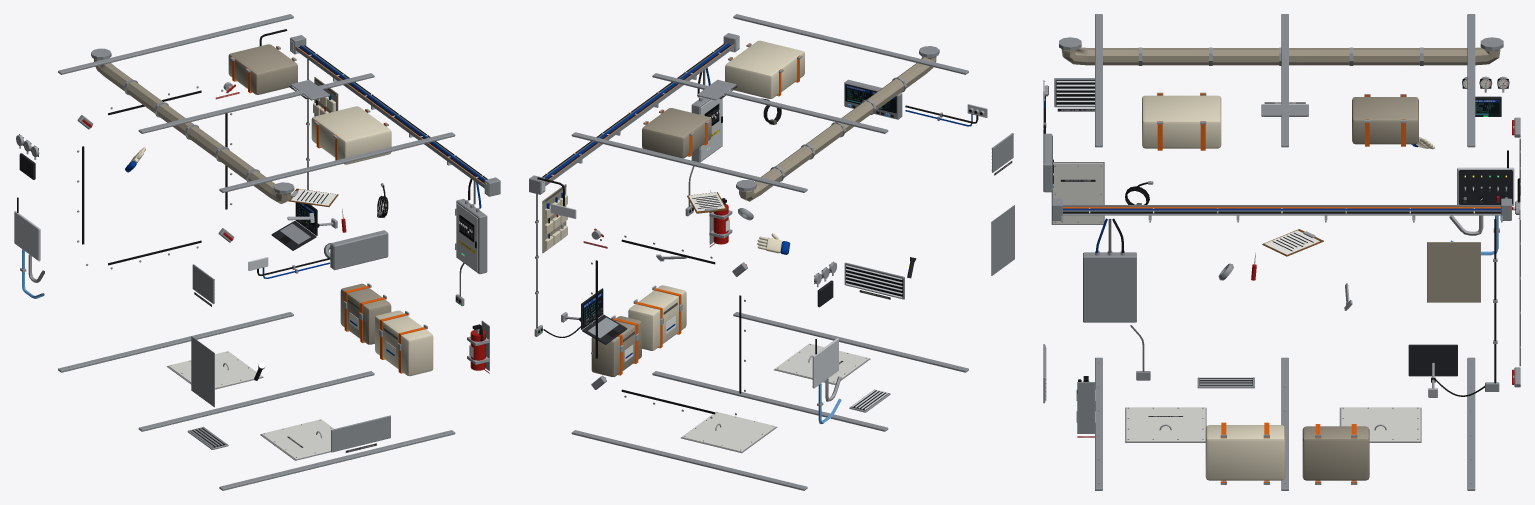
Rendered from Ambientacion_Tacuarembo.fbx.
3 views of the same model, side by side, from view 1: azimuth 30°, elevation 25°; view 2: azimuth 150°, elevation 25°; view 3: azimuth 270°, elevation 25° (orthographic). The views are drawn at different scales.
Visible parts, largest first — view 1: T_Det_Ambientacion, T_Bulto_3, T_Bulto_1, T_Bulto_4, T_Bulto_2, T_Pantalla_Sistemas, T_Flot_Portapapeles_1; view 2: T_Det_Ambientacion, T_Bulto_3, T_Bulto_4, T_Bulto_1, T_Bulto_2, T_Pantalla_Sistemas, T_Flot_Portapapeles_1; view 3: T_Det_Ambientacion, T_Bulto_1, T_Bulto_3, T_Bulto_2, T_Bulto_4, T_Pantalla_Sistemas, T_Flot_Portapapeles_1.
Part boxes in pixels (x1=…): T_Det_Ambientacion: x1=14, y1=14, x2=500, y2=490; T_Bulto_3: x1=311, y1=106, x2=391, y2=164; T_Bulto_1: x1=375, y1=310, x2=433, y2=376; T_Bulto_4: x1=228, y1=44, x2=297, y2=94; T_Bulto_2: x1=340, y1=283, x2=391, y2=344; T_Pantalla_Sistemas: x1=19, y1=85, x2=489, y2=452; T_Flot_Portapapeles_1: x1=288, y1=188, x2=338, y2=206; T_Det_Ambientacion: x1=529, y1=14, x2=1014, y2=490; T_Bulto_3: x1=725, y1=40, x2=804, y2=98; T_Bulto_4: x1=642, y1=108, x2=711, y2=158; T_Bulto_1: x1=628, y1=285, x2=686, y2=350; T_Bulto_2: x1=591, y1=315, x2=641, y2=376; T_Pantalla_Sistemas: x1=583, y1=85, x2=1012, y2=364; T_Flot_Portapapeles_1: x1=687, y1=192, x2=727, y2=213; T_Det_Ambientacion: x1=1043, y1=14, x2=1520, y2=490; T_Bulto_1: x1=1205, y1=422, x2=1285, y2=484; T_Bulto_3: x1=1142, y1=92, x2=1221, y2=150; T_Bulto_2: x1=1302, y1=424, x2=1369, y2=484; T_Bulto_4: x1=1352, y1=94, x2=1418, y2=146; T_Pantalla_Sistemas: x1=1057, y1=79, x2=1509, y2=437; T_Flot_Portapapeles_1: x1=1262, y1=229, x2=1323, y2=256.
Size of the model in its own units: 2.4 by 2.4 by 3.
